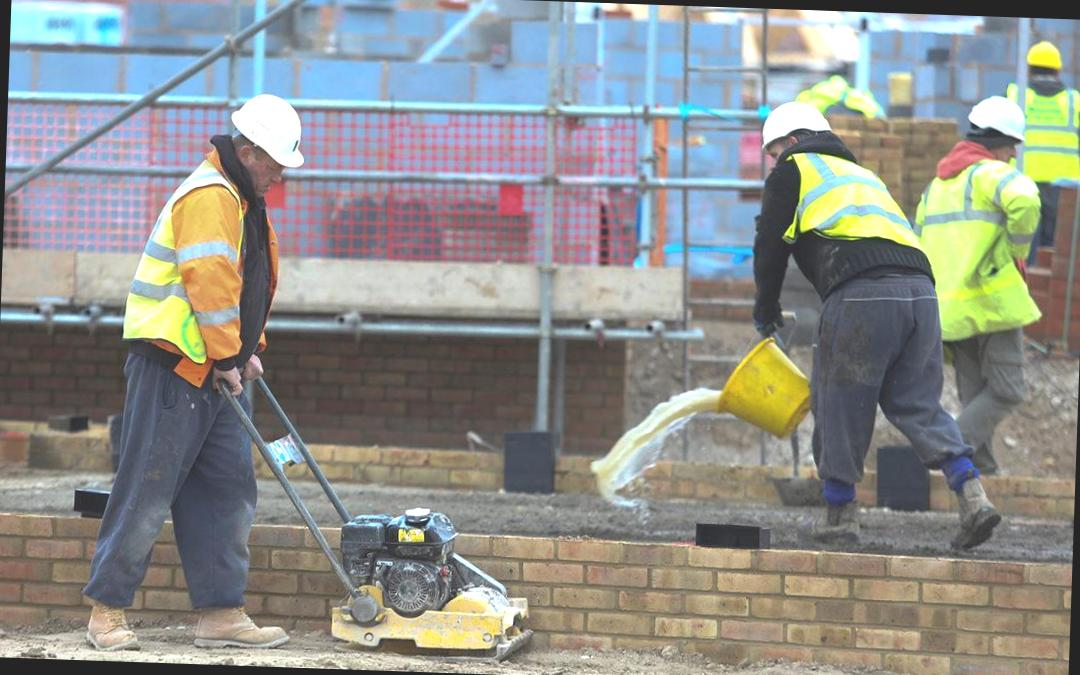helmet: (226, 86, 312, 175), (754, 97, 840, 158), (964, 90, 1035, 148)
person: (87, 84, 312, 667), (740, 95, 954, 546), (908, 91, 1054, 500)
